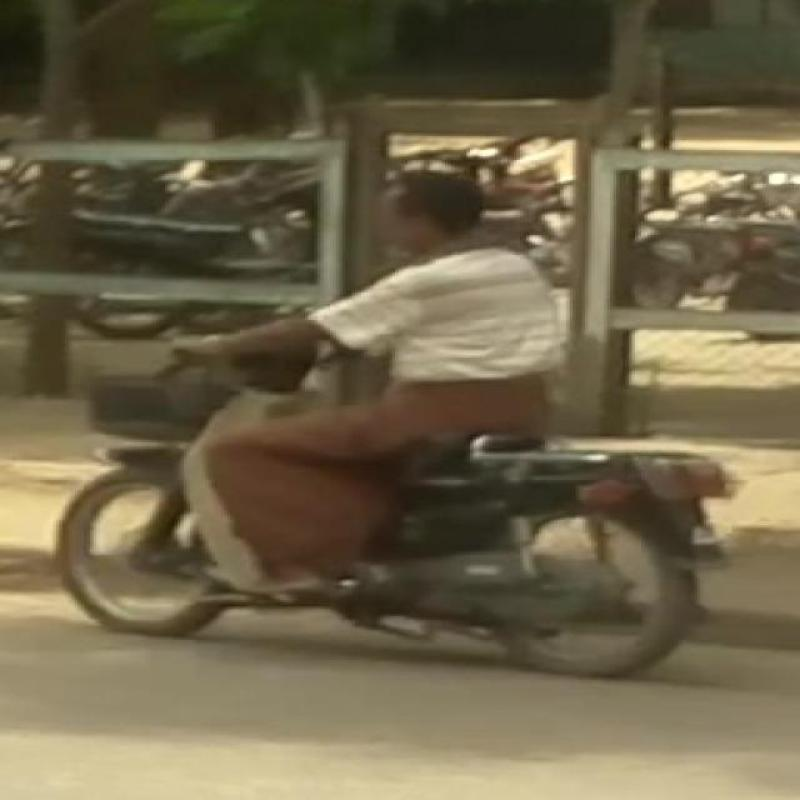nohelmet: (357, 158, 522, 262)
